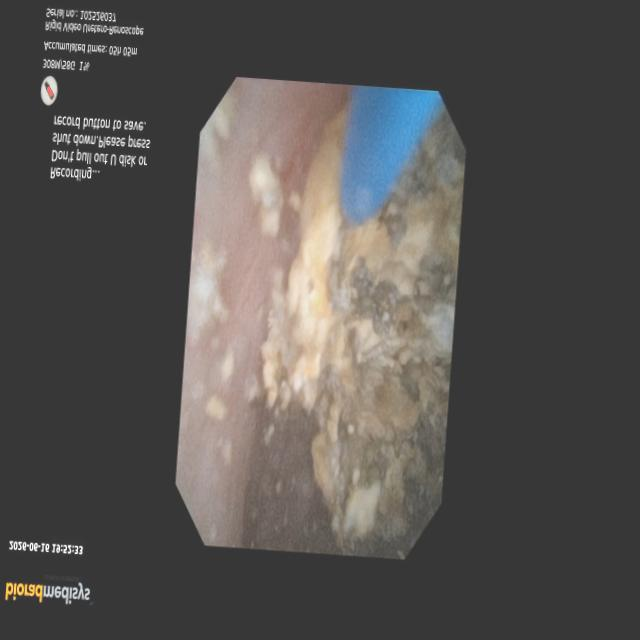stone-new: (261, 108, 464, 547)
